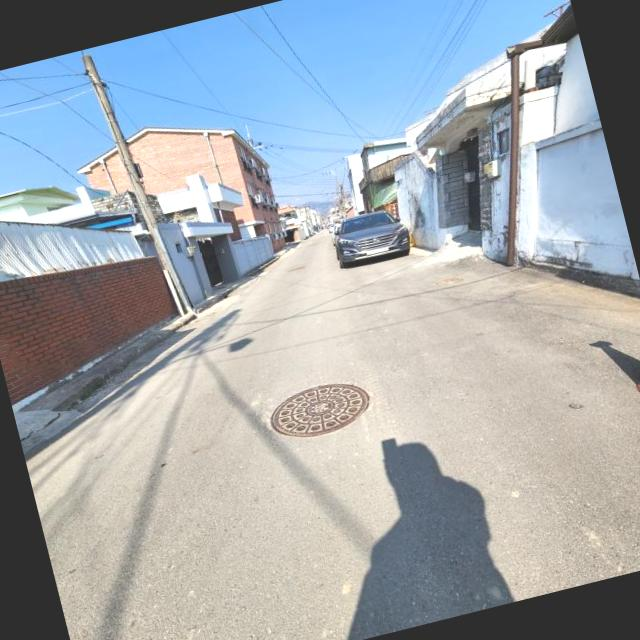hole: (253, 367, 389, 452)
